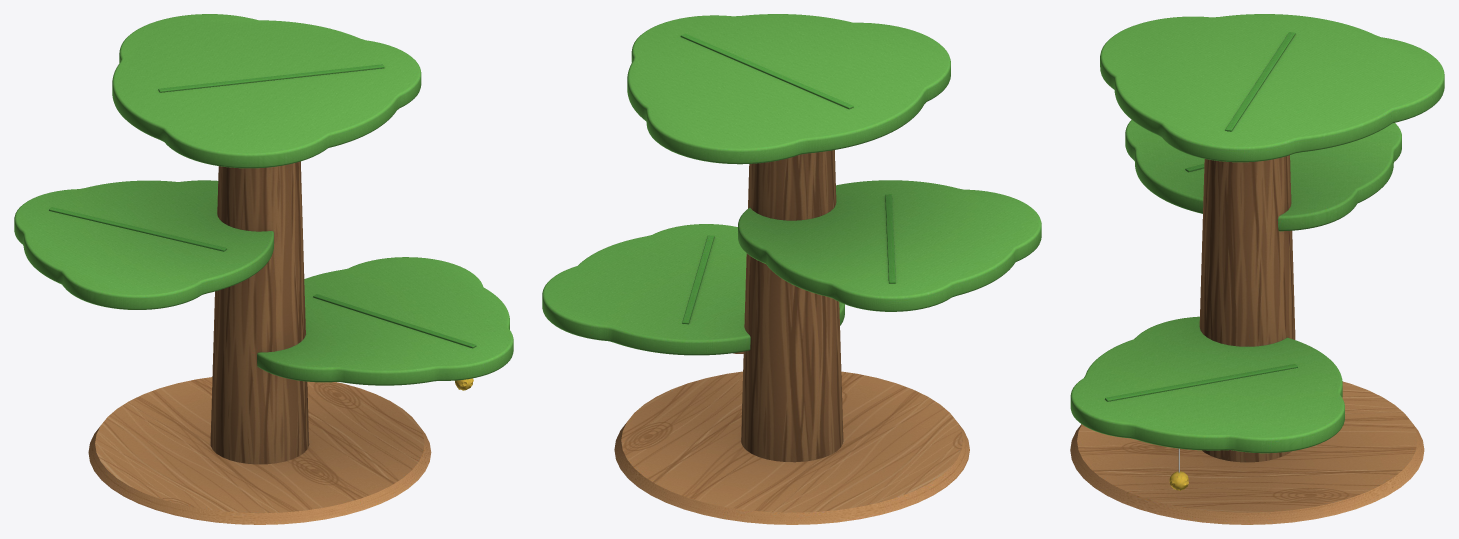
The model's file is tower_tree.glb.
The picture shows the model from 3 angles, left to right: view 1: azimuth 30°, elevation 25°; view 2: azimuth 150°, elevation 25°; view 3: azimuth 270°, elevation 25°; orthographic projection. The views are drawn at different scales.
Parts seen in each view (by area): view 1: tower_tree; view 2: tower_tree; view 3: tower_tree.
Part boxes in pixels (x1,y1,x2,y2): tower_tree: [14, 14, 513, 524]; tower_tree: [542, 14, 1041, 524]; tower_tree: [1070, 14, 1444, 524].
Bounding box in the file's own units: 1.52 × 1.23 × 1.1.
Materials: 1 (1 with a texture image).
